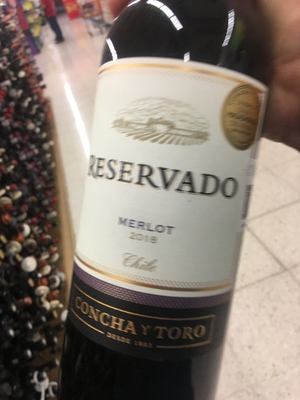reservado merlot: (73, 32, 267, 400)
